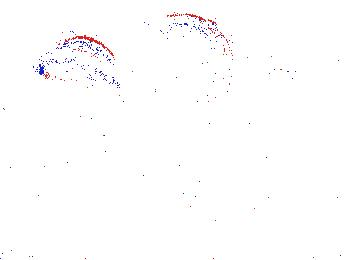moon jellyfish: (130, 13, 235, 125), (205, 1, 311, 73), (40, 35, 126, 97), (284, 4, 346, 71), (69, 4, 159, 40), (16, 11, 69, 69)
